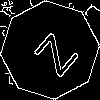Z: (25, 25, 80, 78)
